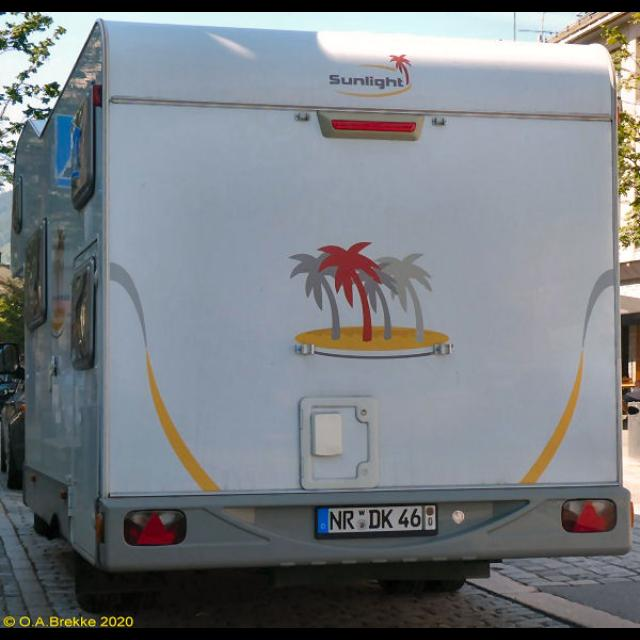d_license_plate: (317, 505, 435, 531)
